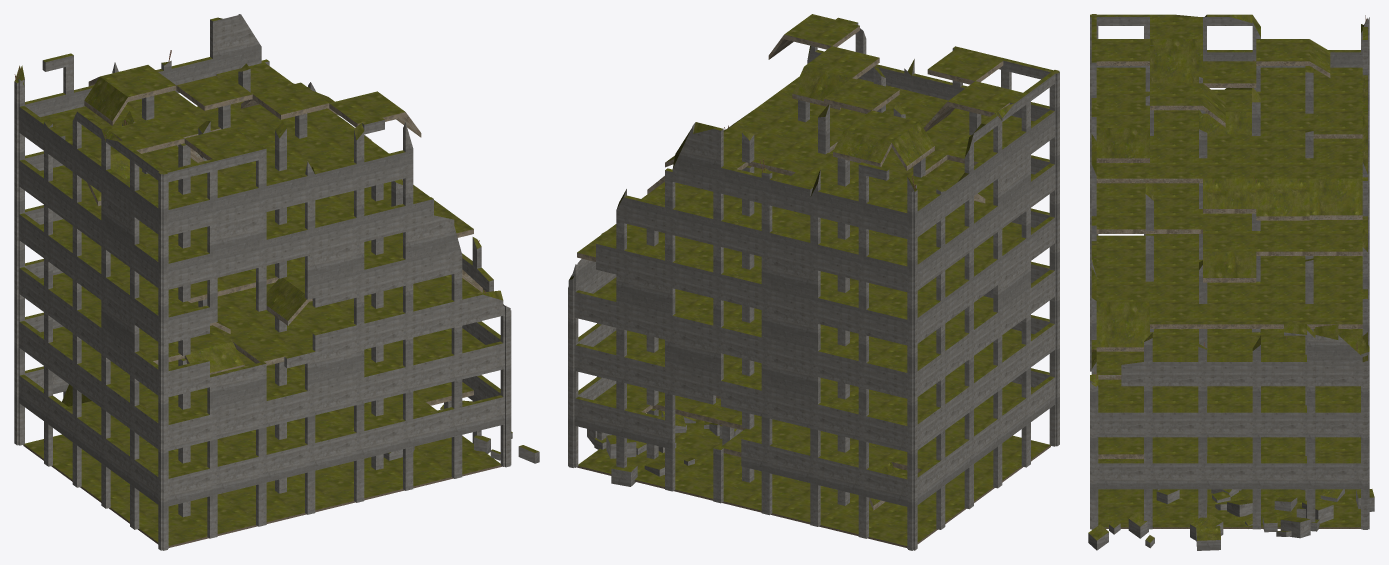
File: bld_b.gltf
3 views of the same model, side by side, from view 1: azimuth 30°, elevation 25°; view 2: azimuth 150°, elevation 25°; view 3: azimuth 270°, elevation 25° (orthographic). The views are drawn at different scales.
Visible parts, largest first — view 1: bld_b; view 2: bld_b; view 3: bld_b.
Boxes of the visible parts, box(x1,y1,x2,y2) form: bld_b: box(14, 14, 539, 550); bld_b: box(568, 14, 1059, 550); bld_b: box(1088, 14, 1374, 550).
Bounding box in the file's own units: 24.67 × 23.68 × 16.89.
